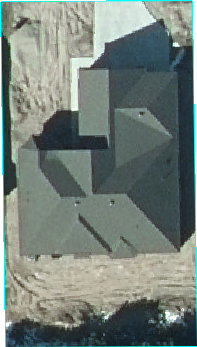house: (16, 67, 182, 260)
